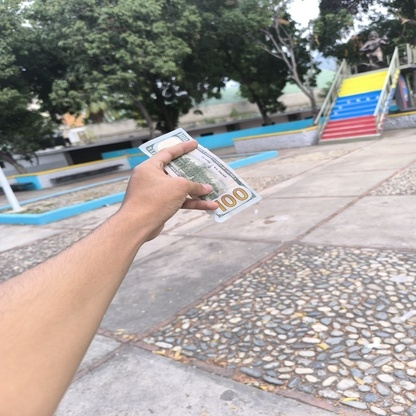one_hundred-back: (138, 125, 263, 224)
